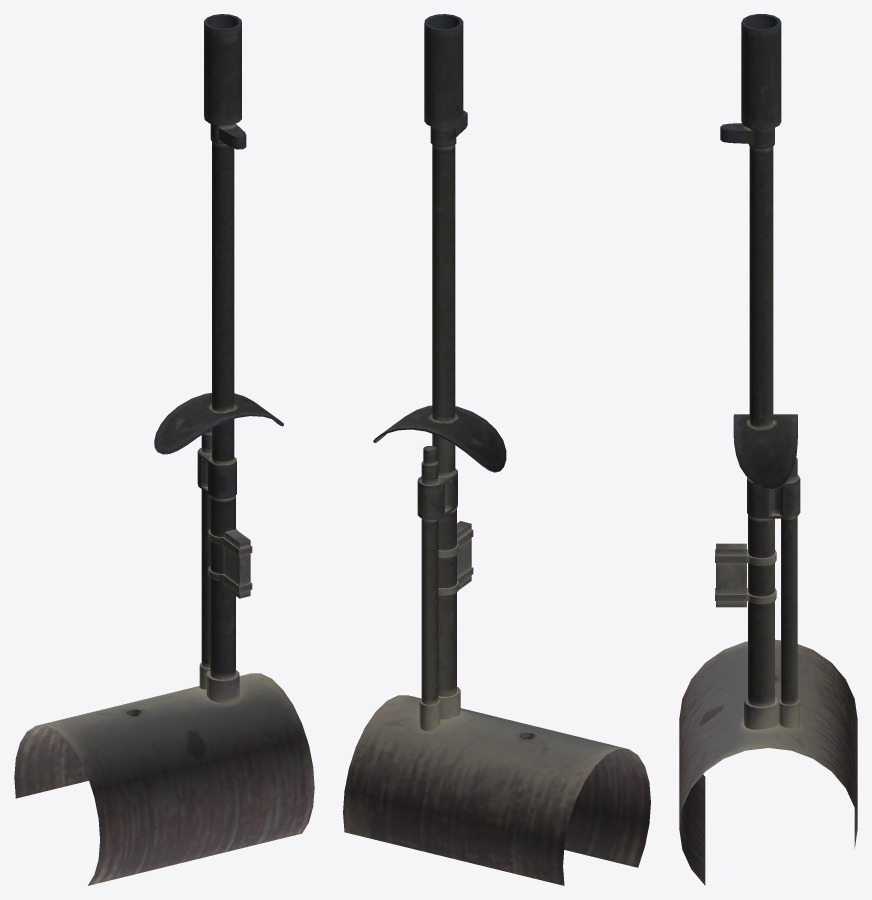
File: Gun_06.glb
3 views of the same model, side by side, from view 1: azimuth 30°, elevation 25°; view 2: azimuth 150°, elevation 25°; view 3: azimuth 270°, elevation 25° (orthographic). The views are drawn at different scales.
Parts seen in each view (by area): view 1: set_0_group_0; view 2: set_0_group_0; view 3: set_0_group_0.
Boxes of the visible parts, x1,y1,x2,y2 form: set_0_group_0: [14, 14, 314, 885]; set_0_group_0: [343, 14, 650, 885]; set_0_group_0: [679, 14, 857, 885].
Size of the model in its own units: 0.4386 by 1.51 by 0.292.
1 material, 1 textured.
